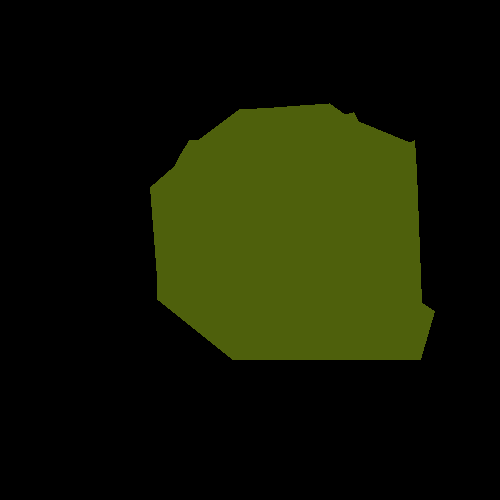Train: (150, 103, 435, 360)
